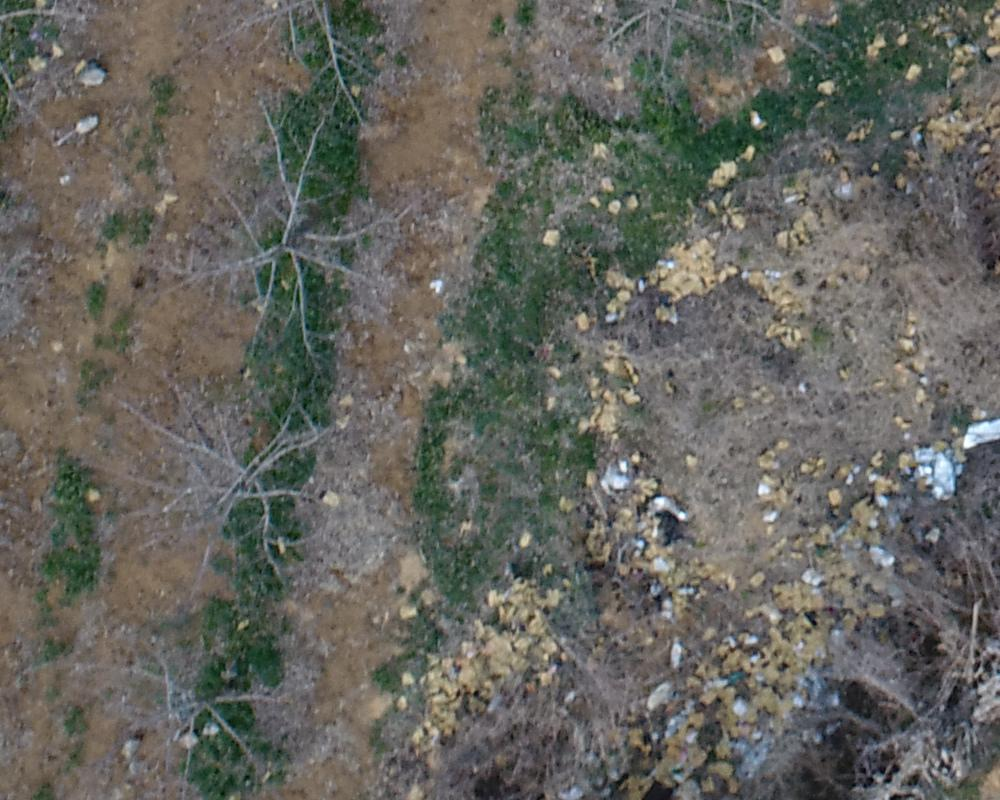apple: (143, 93, 428, 367), (78, 356, 396, 593), (78, 623, 328, 790), (170, 10, 446, 132)
